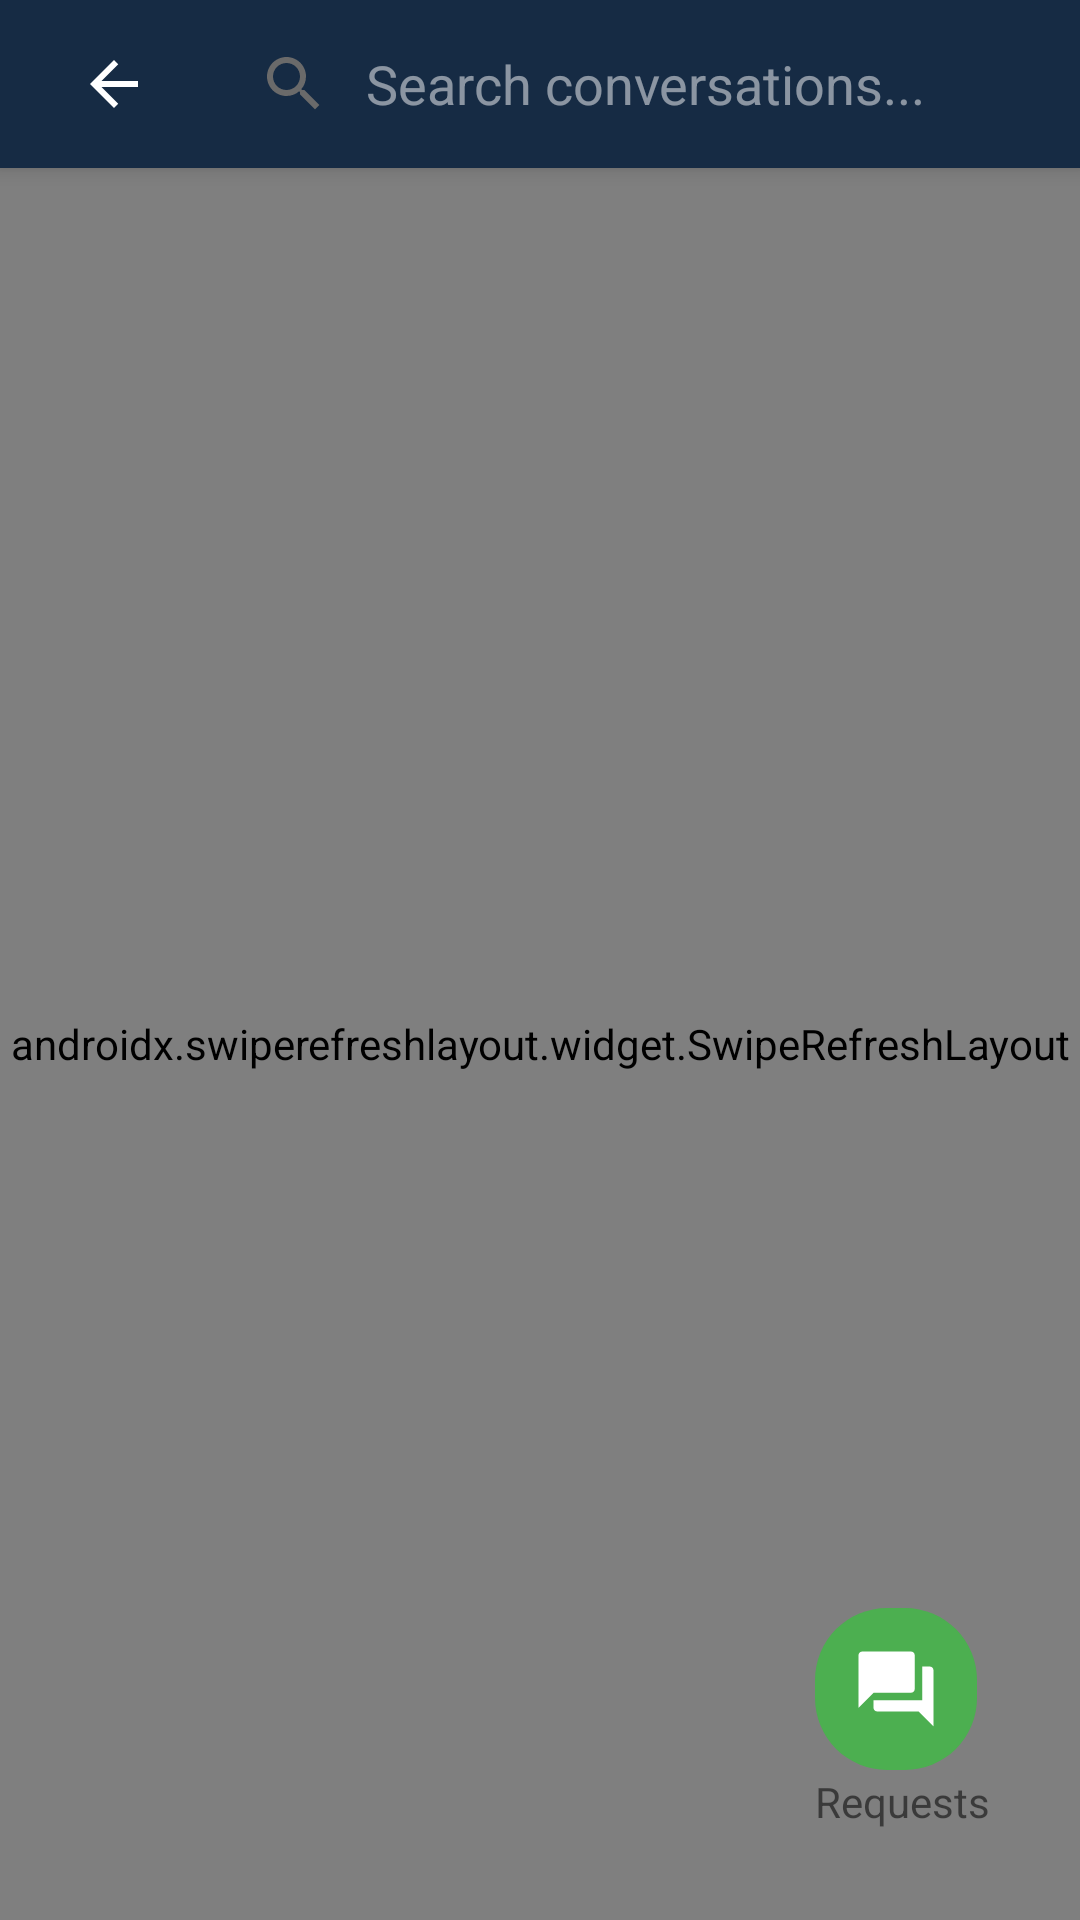

Icons on this 1080 × 1920 Android screen, each with the point to tap as (x=x, y=y):
backbutton: (x=114, y=84)
chat: (x=896, y=1689)
